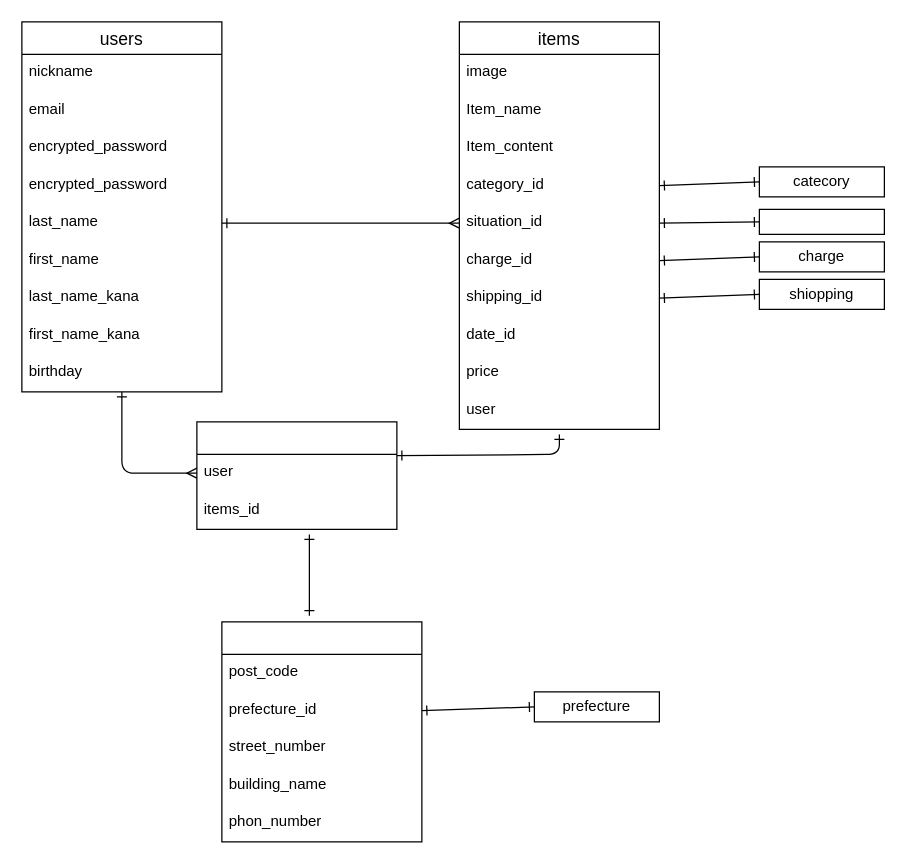
Some shapes in this 906 by 868 pixel diagram are drawn without their labels. The shapes that lost their labels are listed below. From the top down, each one's box as (x1, y1, x2, y2) in pixels, then its label:
(758, 208, 884, 234): situation
(196, 421, 397, 529): purchases
(221, 621, 422, 842): deliveries
